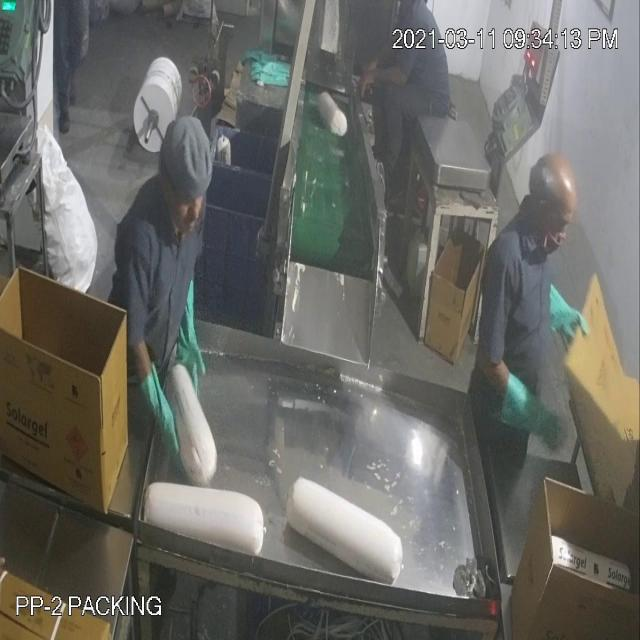Gloves: (46, 52, 565, 410)
